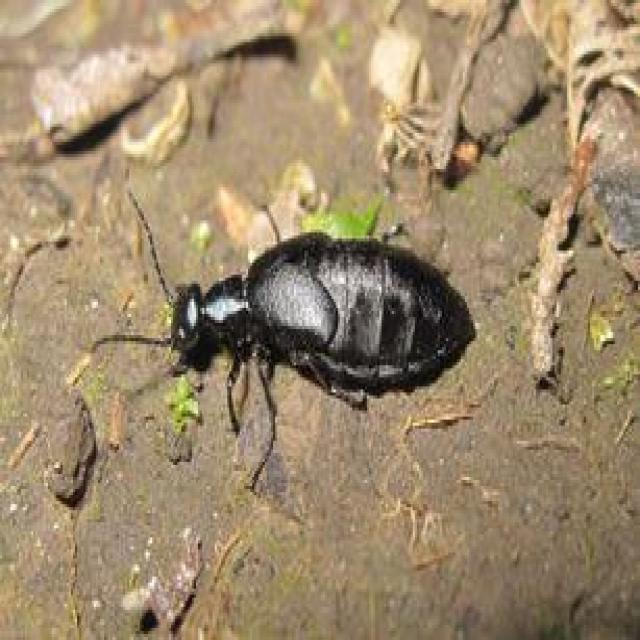BlisterBeetle-Adult-: (75, 187, 481, 429)
